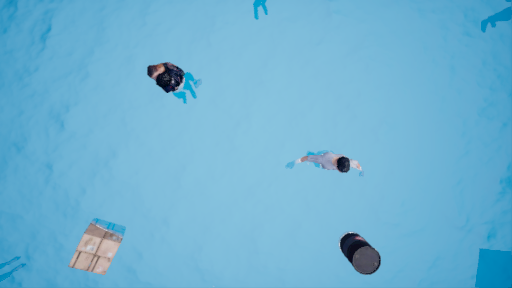person: (142, 61, 221, 117), (282, 145, 364, 179)
